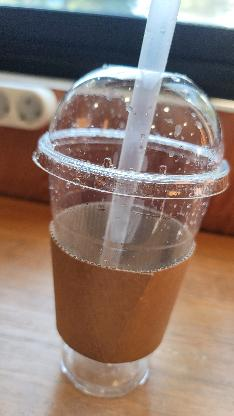Plastic Cup: (32, 64, 228, 400)
